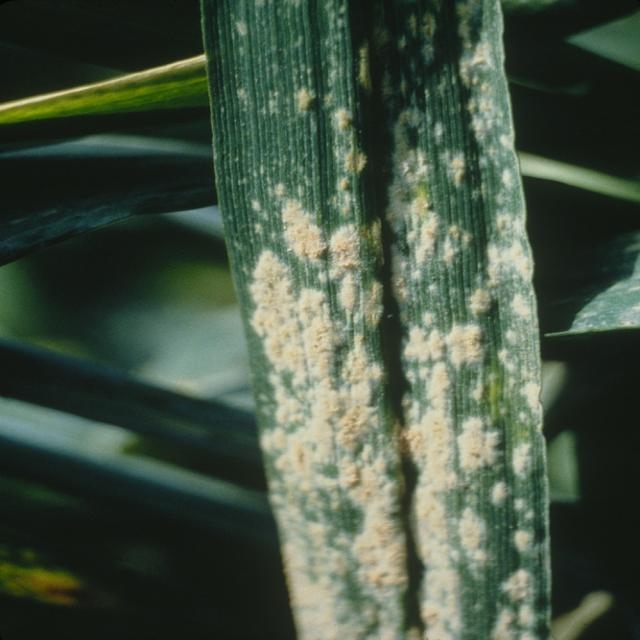wheat-powdery-mildew: (246, 41, 553, 640)
